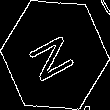N_NE: (26, 26, 84, 84)
